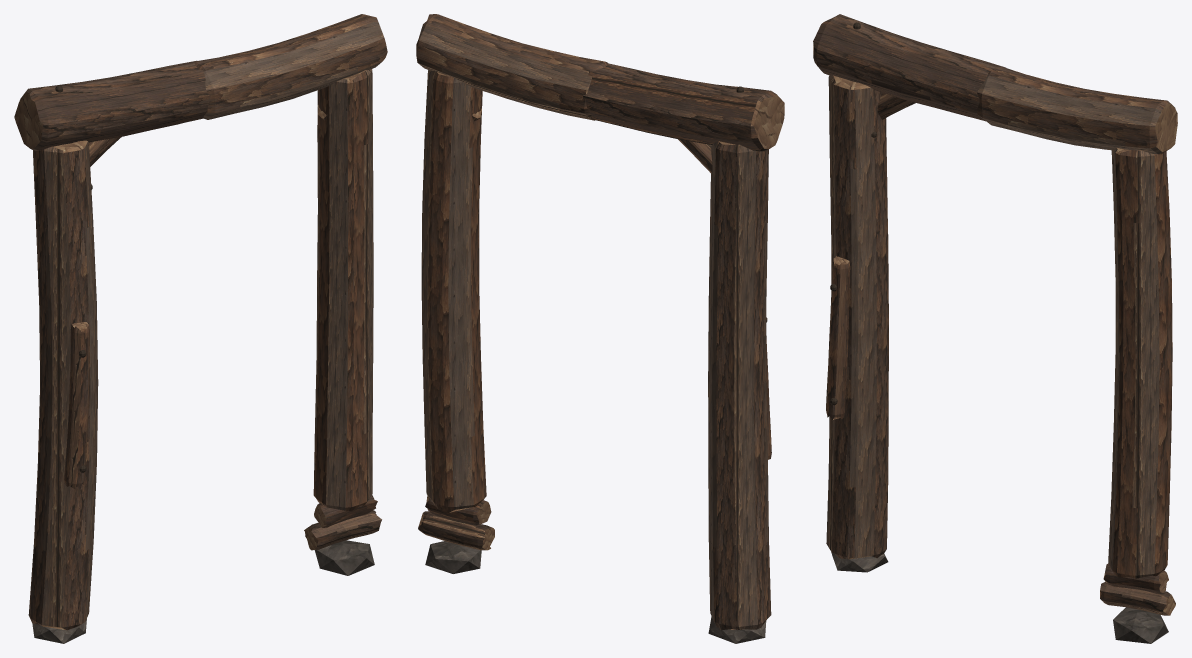
Rendered from prop_old.glb.
3 views of the same model, side by side, from view 1: azimuth 30°, elevation 25°; view 2: azimuth 150°, elevation 25°; view 3: azimuth 330°, elevation 25° (orthographic).
Parts seen in each view (by area): view 1: model; view 2: model; view 3: model.
Part boxes in pixels (x1,y1,x2,y2): model: (14,14,387,643); model: (416,14,784,643); model: (813,14,1177,643).
Size of the model in its own units: 1.98 by 2.96 by 0.4068.
20 materials, 20 textured.
